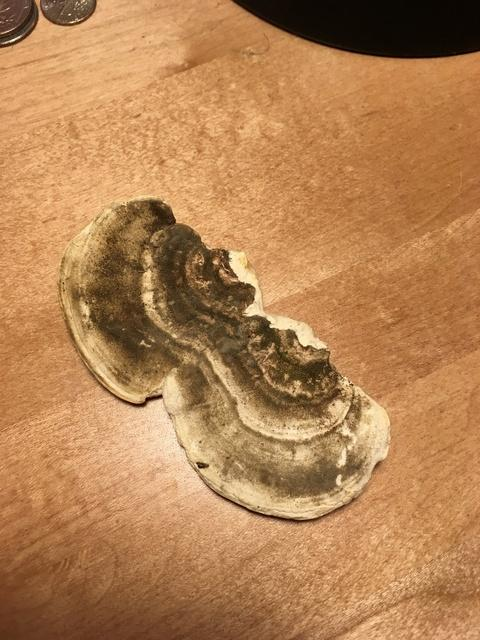poisonous_mushroom: (56, 193, 392, 521)
